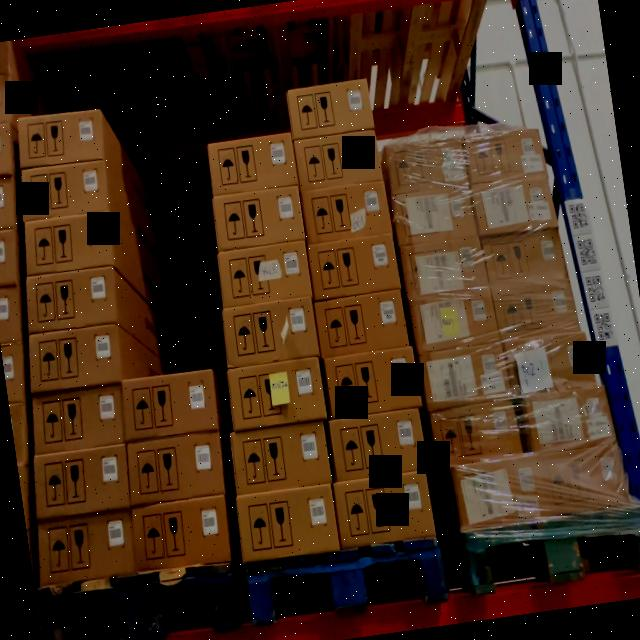box: (455, 446, 627, 524), (236, 486, 340, 556), (226, 359, 328, 430), (329, 409, 428, 482), (335, 472, 433, 544), (232, 424, 331, 494), (134, 502, 228, 573), (326, 346, 421, 416), (127, 436, 224, 504), (215, 245, 312, 312), (38, 514, 133, 582), (313, 288, 408, 356), (225, 302, 318, 370), (212, 188, 304, 255), (34, 452, 130, 516), (302, 178, 392, 246), (432, 400, 522, 467), (125, 374, 218, 438), (34, 387, 124, 452), (28, 328, 122, 390), (28, 268, 118, 332), (506, 332, 596, 395), (527, 389, 615, 452), (310, 237, 399, 298), (209, 133, 297, 193), (402, 238, 488, 298), (423, 344, 509, 404), (393, 186, 478, 246), (484, 228, 566, 290), (410, 289, 498, 345), (289, 80, 372, 138), (387, 137, 468, 196), (26, 220, 112, 275), (19, 111, 102, 166), (474, 178, 556, 232), (23, 168, 108, 220), (296, 136, 381, 188), (495, 282, 577, 335), (467, 130, 545, 180)
